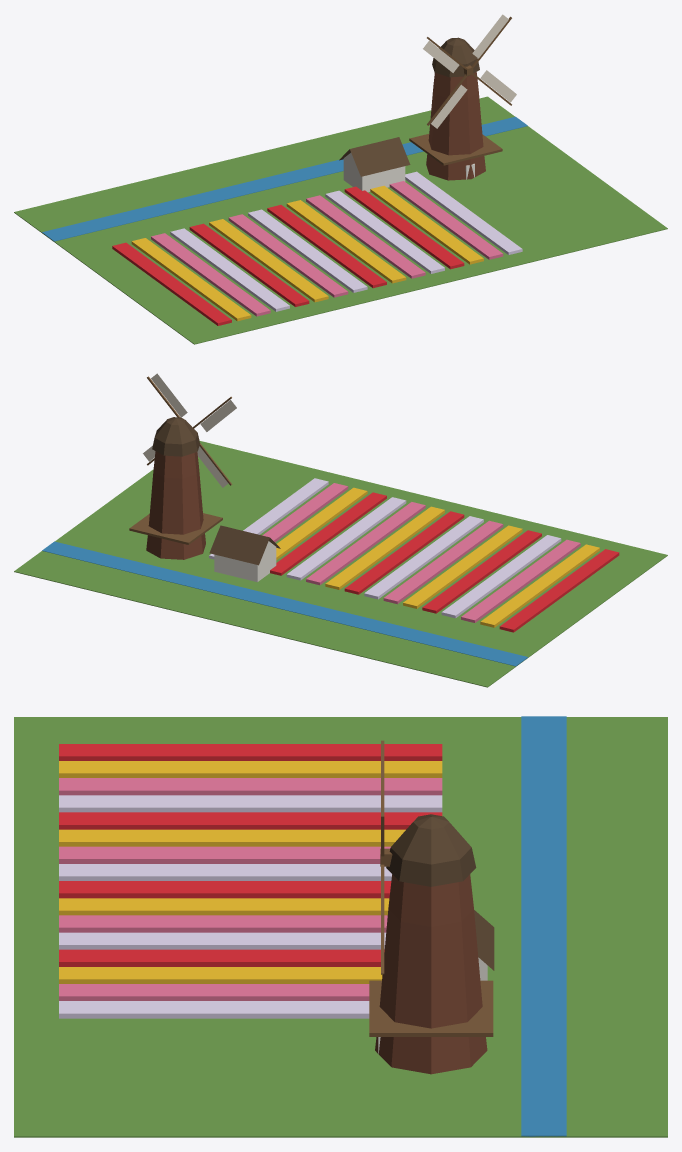
File: windmill.glb
3 views of the same model, one above another, from view 1: azimuth 30°, elevation 25°; view 2: azimuth 150°, elevation 25°; view 3: azimuth 270°, elevation 25° (orthographic). The views are drawn at different scales.
Parts seen in each view (by area): view 1: Windmill_static, spin_s30_sails; view 2: Windmill_static, spin_s30_sails; view 3: Windmill_static, spin_s30_sails.
Part boxes in pixels (left/top/right/bottom): Windmill_static: left=14, top=37, right=667, bottom=344; spin_s30_sails: left=423, top=14, right=516, bottom=128; Windmill_static: left=14, top=417, right=667, bottom=687; spin_s30_sails: left=143, top=373, right=236, bottom=487; Windmill_static: left=14, top=716, right=667, bottom=1137; spin_s30_sails: left=380, top=740, right=392, bottom=974.
Size of the model in its own units: 88 by 27.77 by 58.
